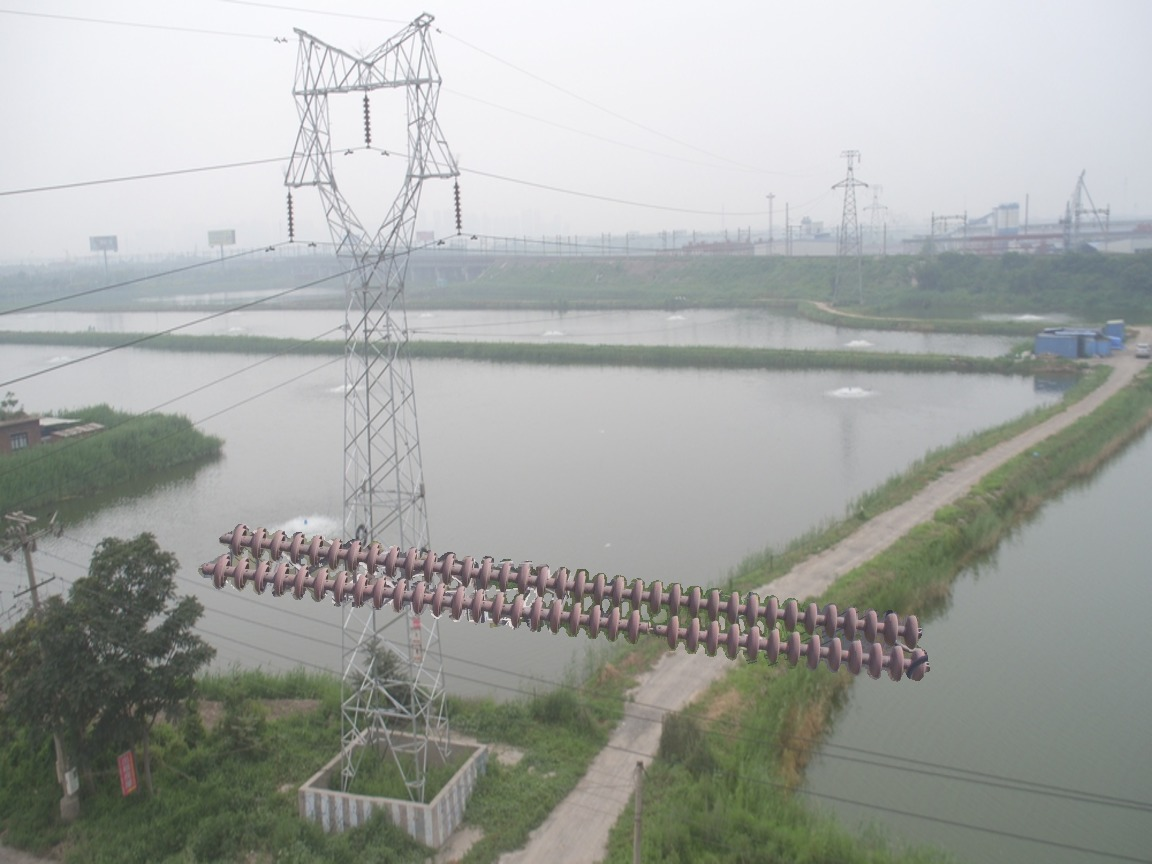defect: (622, 608, 686, 652)
